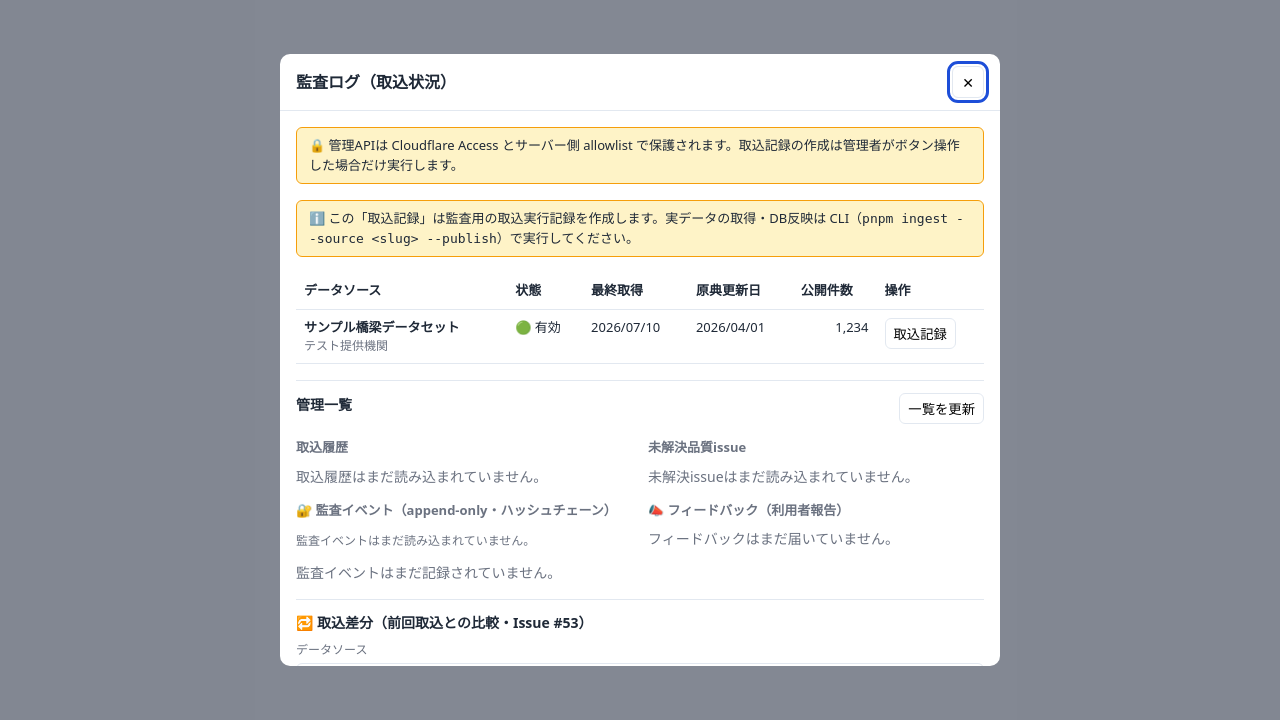
Test: AuditLogDialog › starts an admin ingestion and renders the returned run detail
Click the button "取込記録" at coordinates (920, 333), box [884, 318, 956, 348]
(page scrolled)
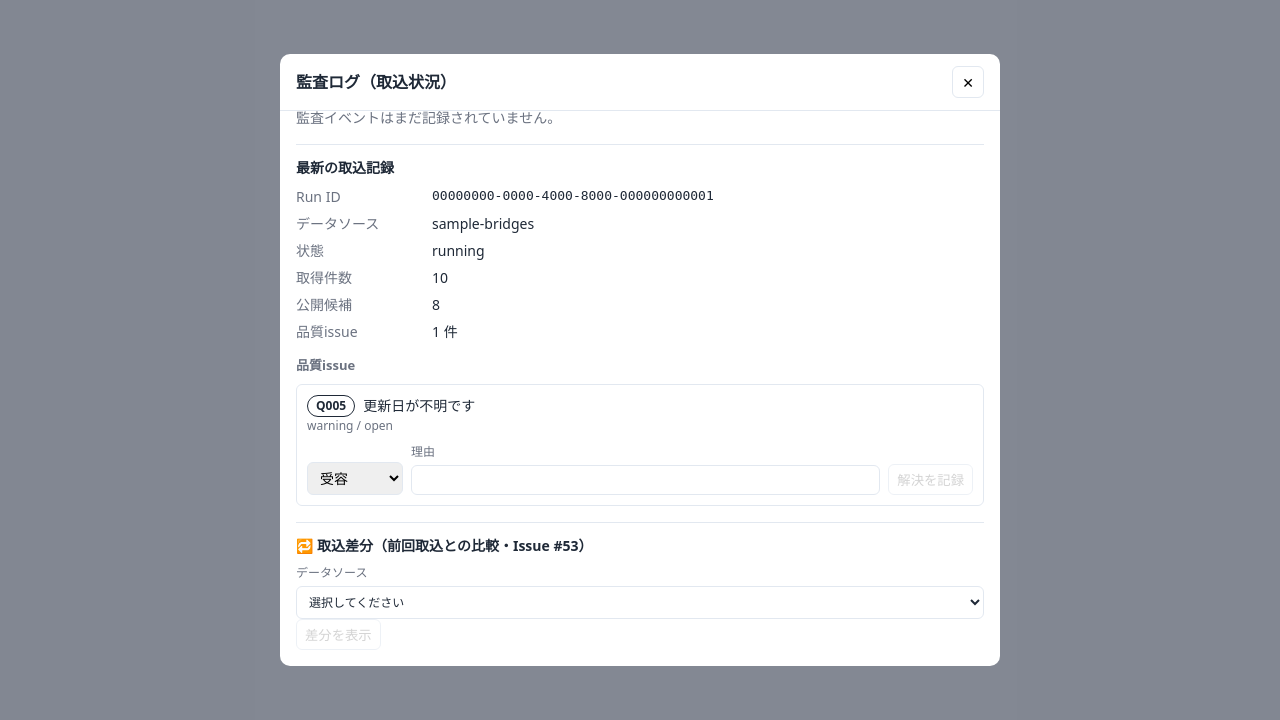
Now the heading "最新の取込記録" is shown, box [296, 158, 394, 177]
Now the text "00000000-0000-4000-8000-000000000001" is shown, box [432, 188, 714, 203]
Now the text "1 件" is shown, box [432, 322, 458, 341]
